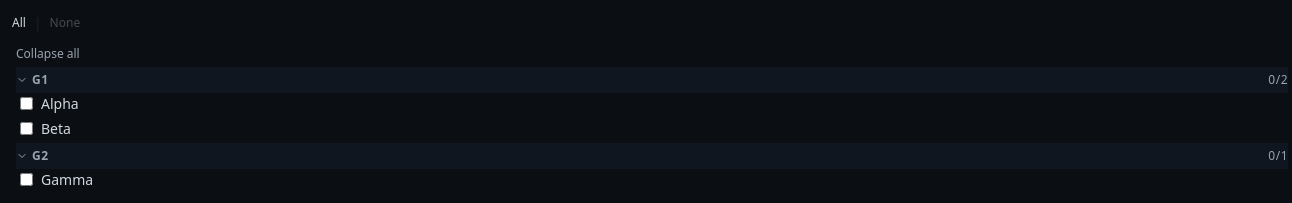
it: CheckboxGroup — grouped layout › section header click collapses the section
Expected: the text "Alpha" is shown, [41,93,79,114]
Click the button "G1 0/2". click: point(22, 80)
box: [16,67,1288,93]
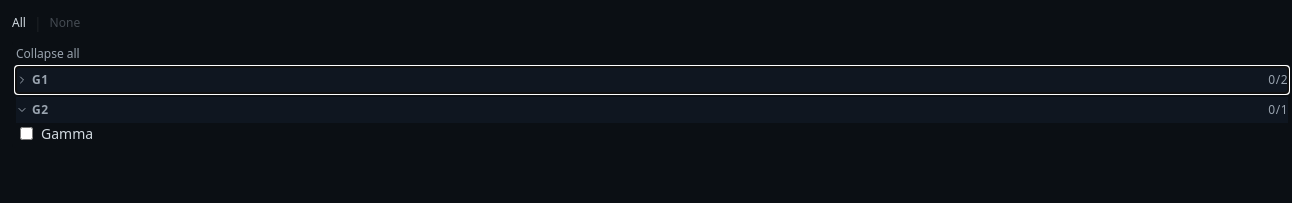
Expected: the text "Gamma" is shown, [41,123,93,144]
Expected: the text "Alpha" is gone
Expected: the text "Beta" is gone
